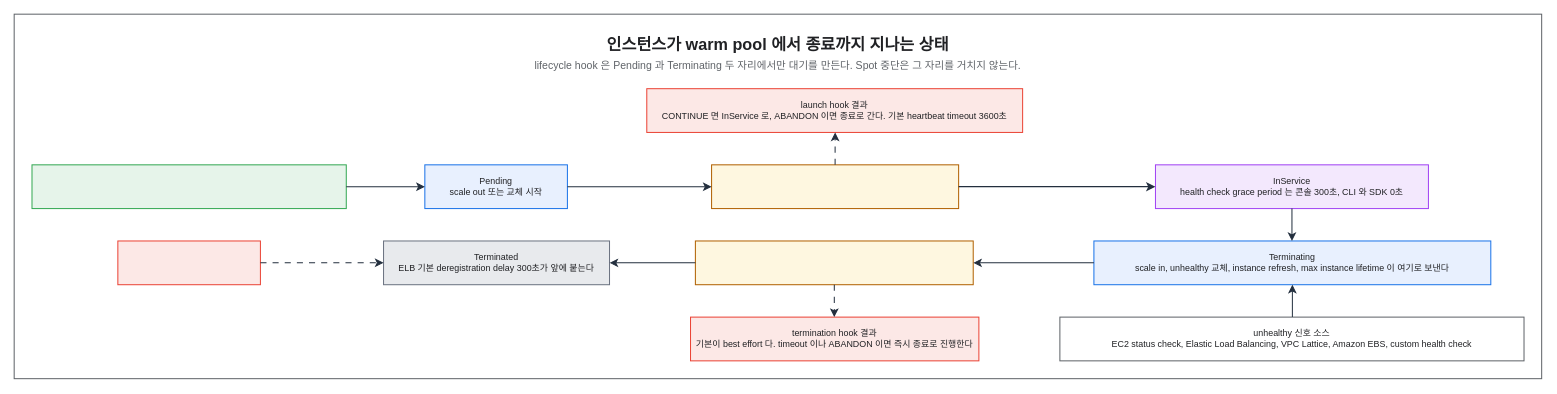
Image size: 1557x394. Some labels were removed from this diagram. The shapes that lost their labels are listed below. From the top down, each one's box as (x1, y1, x2, y2) in pixels, then its label:
(31, 164, 346, 209): warm pool Stopped 가 기본 권장. 크기 기본값은 max capacity 빼기 desired capacity
(711, 164, 959, 209): Pending:Wait launch lifecycle hook. 부트스트랩과 캐시 워밍을 여기서 끝낸다
(117, 240, 261, 285): Spot 중단 2분 통지 후 회수, hook 대기 없음
(694, 240, 973, 285): Terminating:Wait termination lifecycle hook. 연결 드레이닝과 로그 반출을 여기서 한다
